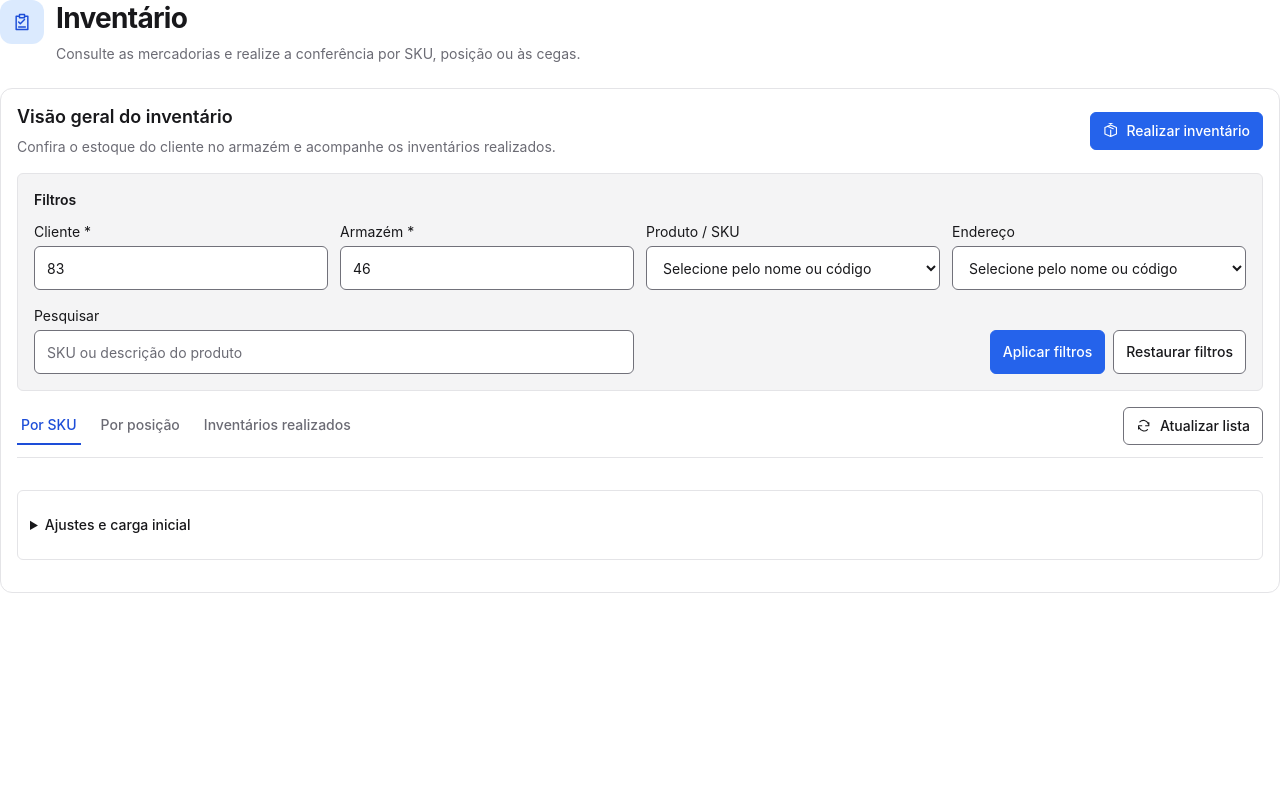
Test case: reenvia a mesma chave após confirmação perdida e bloqueia novos comandos enquanto incerta
Click the button "Realizar inventário": (1176, 131) [1090,112,1263,150]
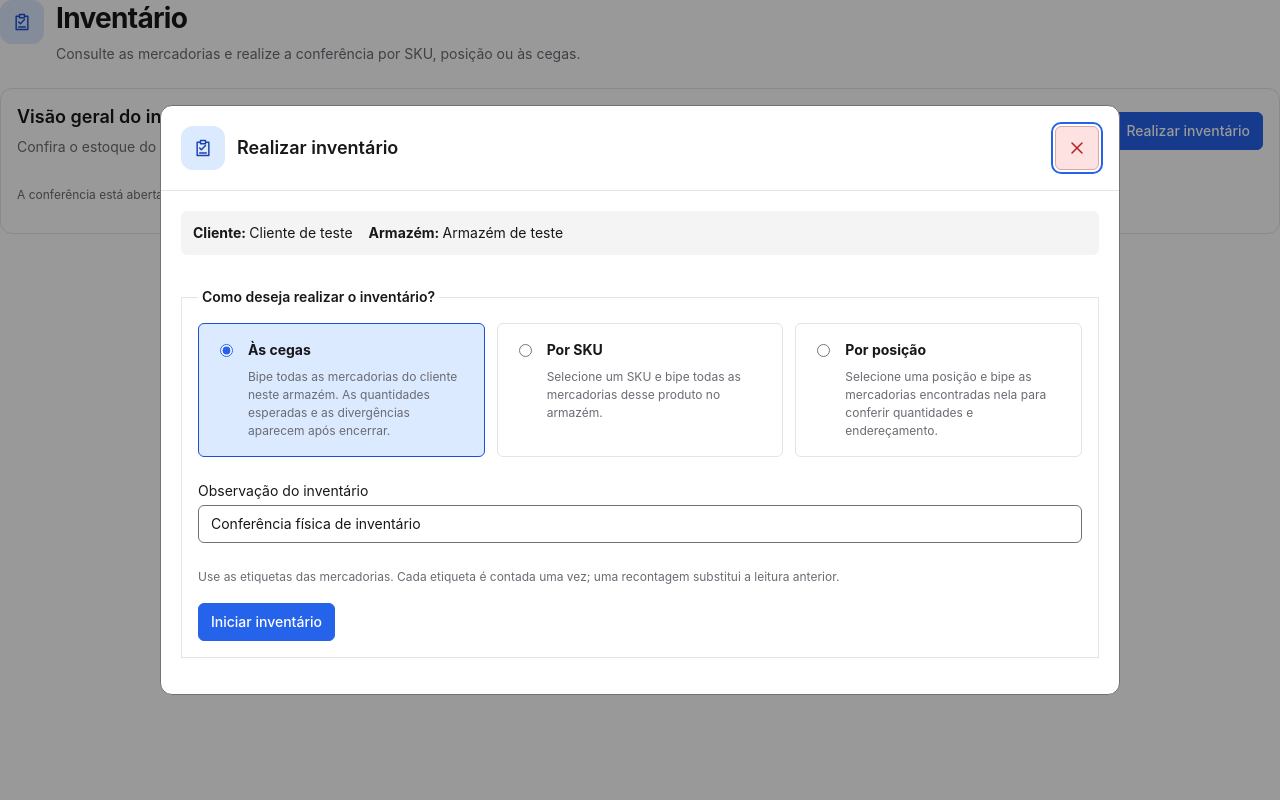
Click the button "Iniciar inventário": (266, 622) [198,603,335,641]
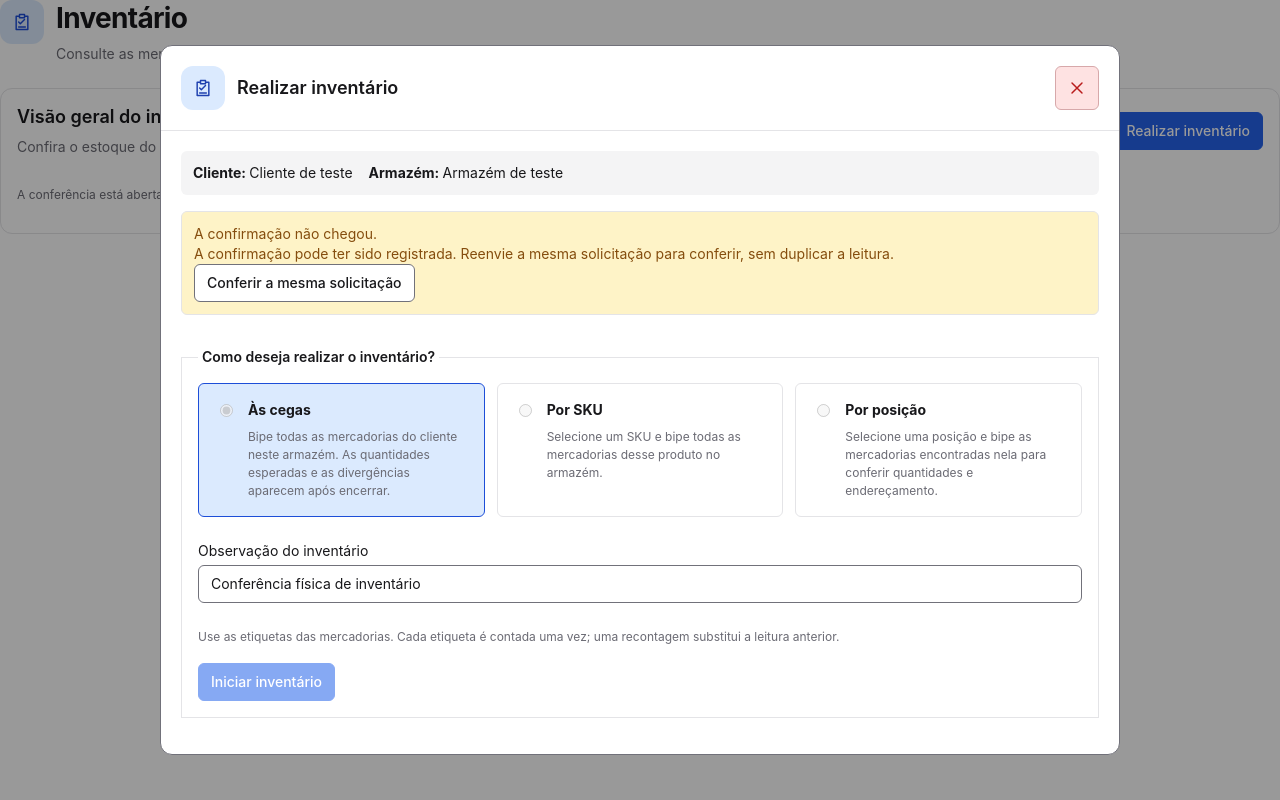
Expected: the button "Iniciar inventário" is disabled, [198,663,335,701]
Click the button "Conferir a mesma solicitação": (304, 283) [194,264,415,302]
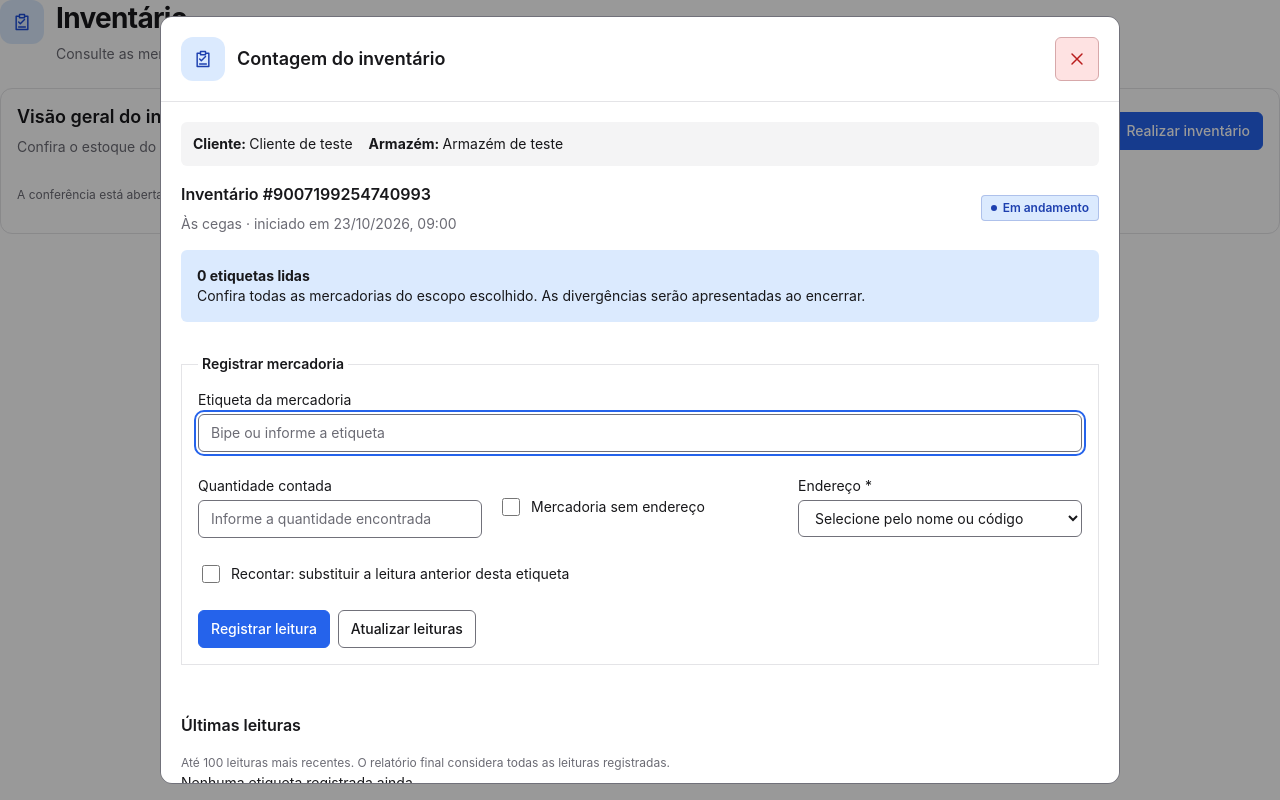
Result: the dialog "Contagem do inventário" is shown
